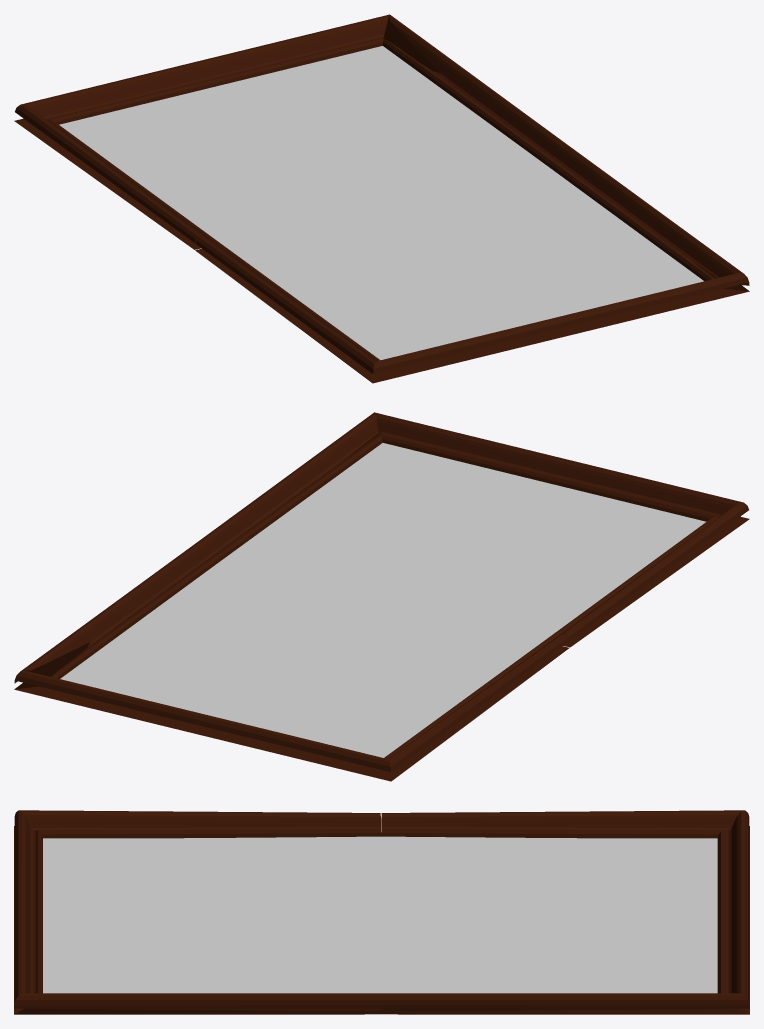
File: Bild.fbx
3 views of the same model, one above another, from view 1: azimuth 30°, elevation 25°; view 2: azimuth 150°, elevation 25°; view 3: azimuth 270°, elevation 25° (orthographic). The views are drawn at different scales.
Visible parts, largest first — view 1: Plane; view 2: Plane; view 3: Plane.
Part boxes in pixels (bbox=[...]): Plane: bbox=[14, 14, 749, 383]; Plane: bbox=[14, 412, 749, 781]; Plane: bbox=[14, 810, 749, 1014].
Size of the model in its own units: 38.74 by 1.79 by 63.83.
